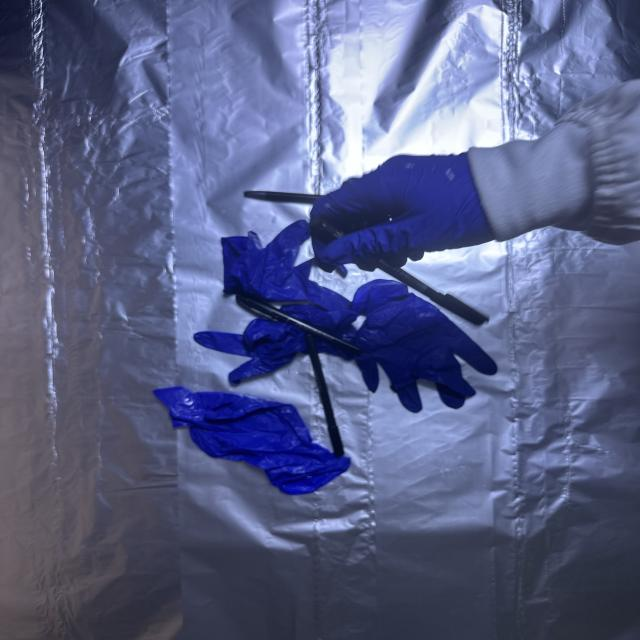gloves_contaminated: (311, 154, 494, 268)
